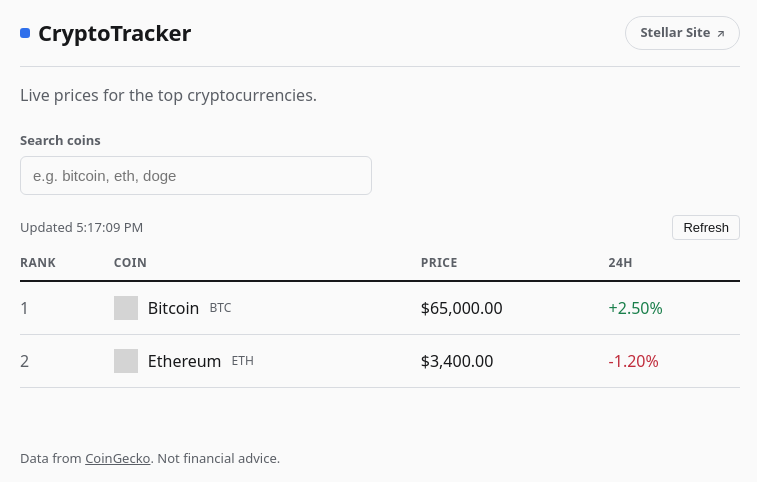
Test case: App › shows a distinct empty state when a search has no matches
The width and height of the screenshot is (757, 482).
Check: the table is shown, box [20,254,740,388]
Type "zzzznotacoin" into the search field labelled "Search coins" at (196, 176), box [20,156,372,195]
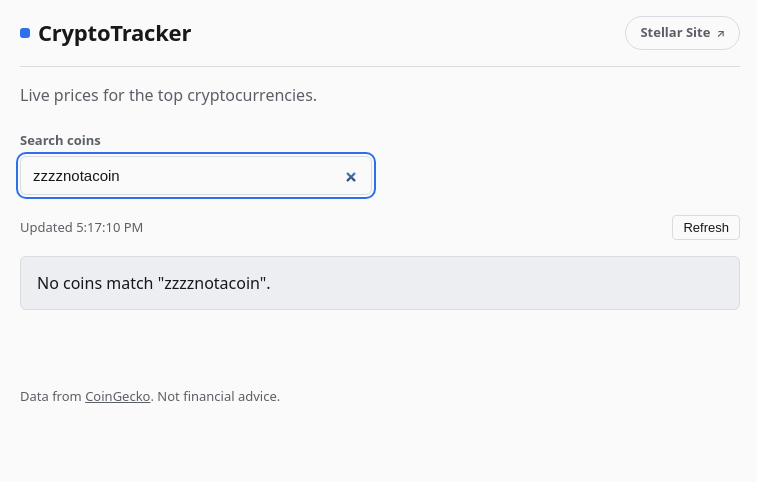
Check: the text "No coins match \"zzzznotacoin\"." is shown, box [20,256,740,310]
